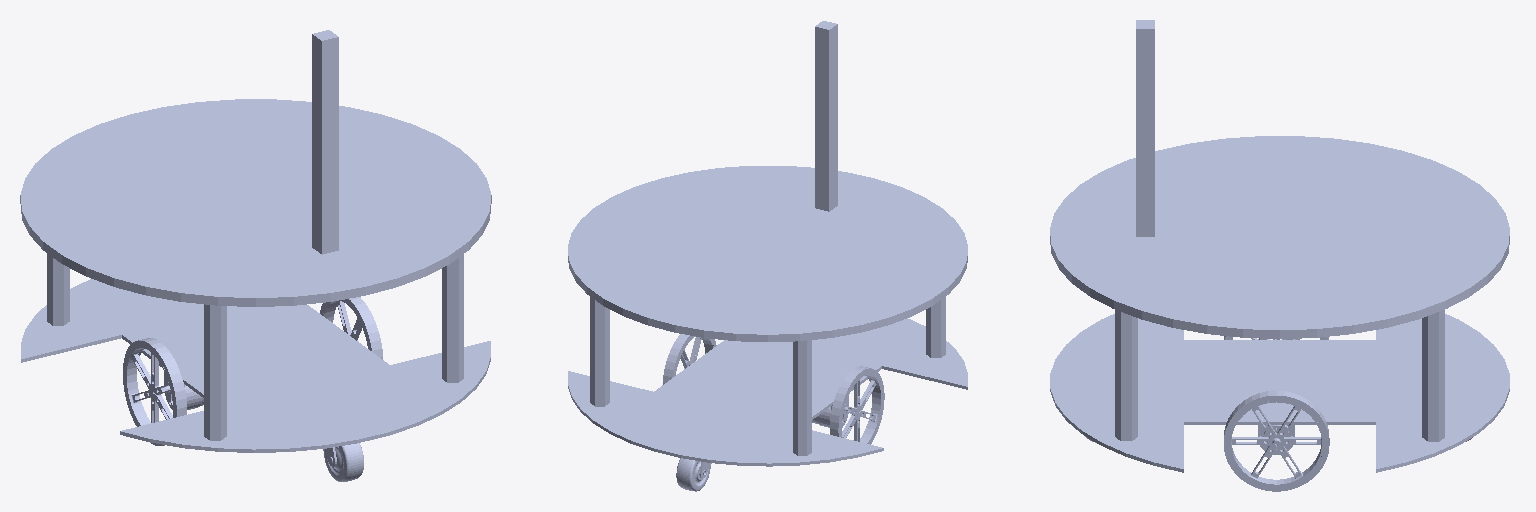
URDF robot description (mapping_robot):
<?xml version="1.0" encoding="utf-8"?>
<!-- This URDF was automatically created by SolidWorks to URDF Exporter! Originally created by [author] ([email redacted]) 
     Commit Version: 1.6.0-1-g15f4949  Build Version: 1.6.7594.29634
     For more information, please see http://wiki.ros.org/sw_urdf_exporter -->
<robot
  name="mapping_robot">
  <link
    name="base_link">
    <inertial>
      <origin
        xyz="0.24401 -0.16817 0.025668"
        rpy="0 0 0" />
      <mass
        value="0.35983" />
      <inertia
        ixx="0.0011506"
        ixy="7.9477E-14"
        ixz="5.753E-10"
        iyy="0.0020673"
        iyz="-1.4254E-11"
        izz="0.00097787" />
    </inertial>
    <visual>
      <origin
        xyz="0 0 0"
        rpy="0 0 0" />
      <geometry>
        <mesh
          filename="package://mapping_robot/meshes/base_link.STL" />
      </geometry>
      <material
        name="">
        <color
          rgba="0.79216 0.81961 0.93333 1" />
      </material>
    </visual>
    <collision>
      <origin
        xyz="0 0 0"
        rpy="0 0 0" />
      <geometry>
        <mesh
          filename="package://mapping_robot/meshes/base_link.STL" />
      </geometry>
    </collision>
  </link>
  <link
    name="left_wheel">
    <inertial>
      <origin
        xyz="-0.1931 0.23699 0.24394"
        rpy="0 0 0" />
      <mass
        value="0.0047382" />
      <inertia
        ixx="2.7571E-06"
        ixy="-6.1198E-12"
        ixz="1.732E-14"
        iyy="1.3915E-06"
        iyz="-3.1568E-13"
        izz="1.3915E-06" />
    </inertial>
    <visual>
      <origin
        xyz="0 0 0"
        rpy="0 0 0" />
      <geometry>
        <mesh
          filename="package://mapping_robot/meshes/left_wheel.STL" />
      </geometry>
      <material
        name="">
        <color
          rgba="0.79216 0.81961 0.93333 1" />
      </material>
    </visual>
    <collision>
      <origin
        xyz="0 0 0"
        rpy="0 0 0" />
      <geometry>
        <mesh
          filename="package://mapping_robot/meshes/left_wheel.STL" />
      </geometry>
    </collision>
  </link>
  <joint
    name="left_wheel_joint"
    type="revolute">
    <origin
      xyz="0.37685 -0.26212 -0.4793"
      rpy="0 0 0" />
    <parent
      link="base_link" />
    <child
      link="left_wheel" />
    <axis
      xyz="1 0 0" />
    <limit
      lower="0"
      upper="360"
      effort="2"
      velocity="2" />
  </joint>
  <link
    name="right_wheel">
    <inertial>
      <origin
        xyz="-0.1931 0.23699 0.24394"
        rpy="0 0 0" />
      <mass
        value="0.0047382" />
      <inertia
        ixx="2.7571E-06"
        ixy="-6.1198E-12"
        ixz="1.732E-14"
        iyy="1.3915E-06"
        iyz="-3.1568E-13"
        izz="1.3915E-06" />
    </inertial>
    <visual>
      <origin
        xyz="0 0 0"
        rpy="0 0 0" />
      <geometry>
        <mesh
          filename="package://mapping_robot/meshes/right_wheel.STL" />
      </geometry>
      <material
        name="">
        <color
          rgba="0.79216 0.81961 0.93333 1" />
      </material>
    </visual>
    <collision>
      <origin
        xyz="0 0 0"
        rpy="0 0 0" />
      <geometry>
        <mesh
          filename="package://mapping_robot/meshes/right_wheel.STL" />
      </geometry>
    </collision>
  </link>
  <joint
    name="right_wheel_joint"
    type="revolute">
    <origin
      xyz="0.49222 0.21894 -0.47244"
      rpy="1.5708 0 0" />
    <parent
      link="base_link" />
    <child
      link="right_wheel" />
    <axis
      xyz="1 0 0" />
    <limit
      lower="0"
      upper="360"
      effort="2"
      velocity="2" />
  </joint>
</robot>

--- What the picture shows (computed from the rendered views, not written in the file) ---
Views: 3 orthographic renders of the robot side by side, from view 1: azimuth 30°, elevation 25°; view 2: azimuth 150°, elevation 25°; view 3: azimuth 270°, elevation 25°.
Model mapping_robot with 3 links and 2 joints (2 revolute), rooted at base_link, posed all joints at 0.
Visible links, largest first — view 1: base_link, left_wheel, right_wheel; view 2: base_link, left_wheel, right_wheel; view 3: base_link, right_wheel.
Boxes of the visible links, x1,y1,x2,y2 form: base_link: [20, 30, 491, 481]; left_wheel: [123, 338, 186, 445]; right_wheel: [320, 297, 382, 359]; base_link: [568, 21, 967, 491]; left_wheel: [830, 366, 884, 444]; right_wheel: [663, 334, 716, 384]; base_link: [1050, 20, 1509, 472]; right_wheel: [1224, 391, 1329, 491].
Bounding box of the posed robot: 0.2396 × 0.2398 × 0.2415 m (x, y, z).
Meshes: 3 distinct files referenced, 3 mesh visuals loaded (3 binary STL).